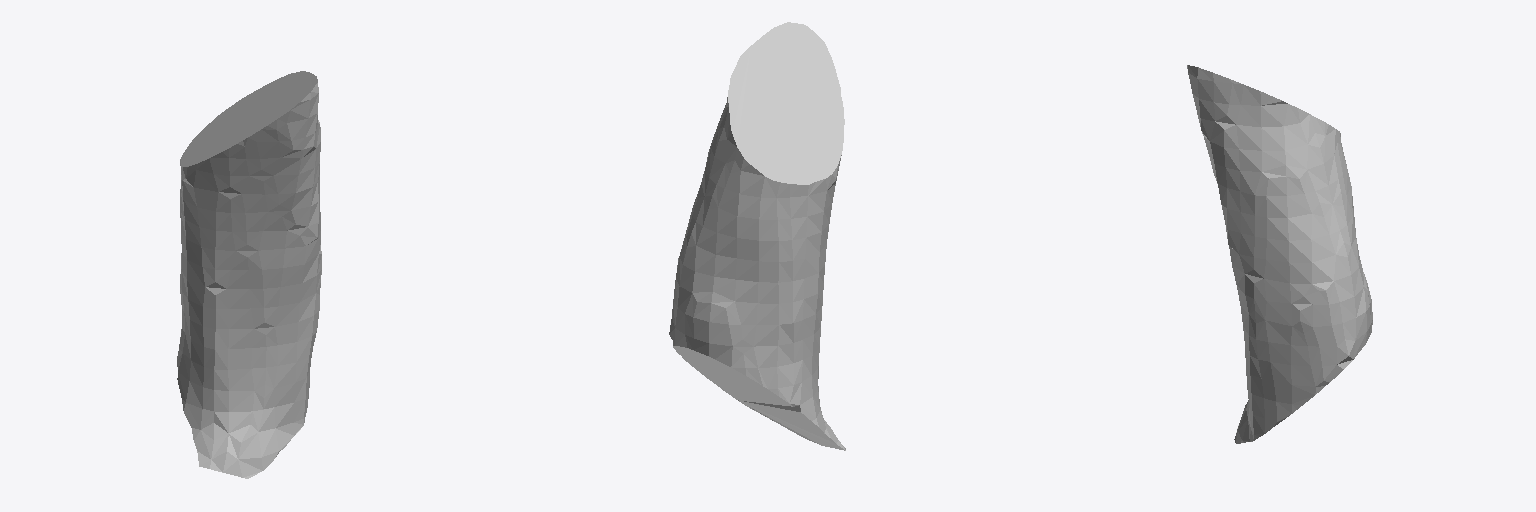
Rendered from low_cell_100.obj.
3 views of the same model, side by side, from view 1: azimuth 30°, elevation 25°; view 2: azimuth 150°, elevation 25°; view 3: azimuth 270°, elevation 25° (orthographic).
Visible parts, largest first — view 1: low_cell.100_low_cell.099; view 2: low_cell.100_low_cell.099; view 3: low_cell.100_low_cell.099.
Boxes of the visible parts, <box> form: low_cell.100_low_cell.099: <box>177,71,321,478</box>; low_cell.100_low_cell.099: <box>669,22,845,450</box>; low_cell.100_low_cell.099: <box>1187,65,1372,443</box>.
Bounding box in the file's own units: 0.1404 × 0.3859 × 0.1635.